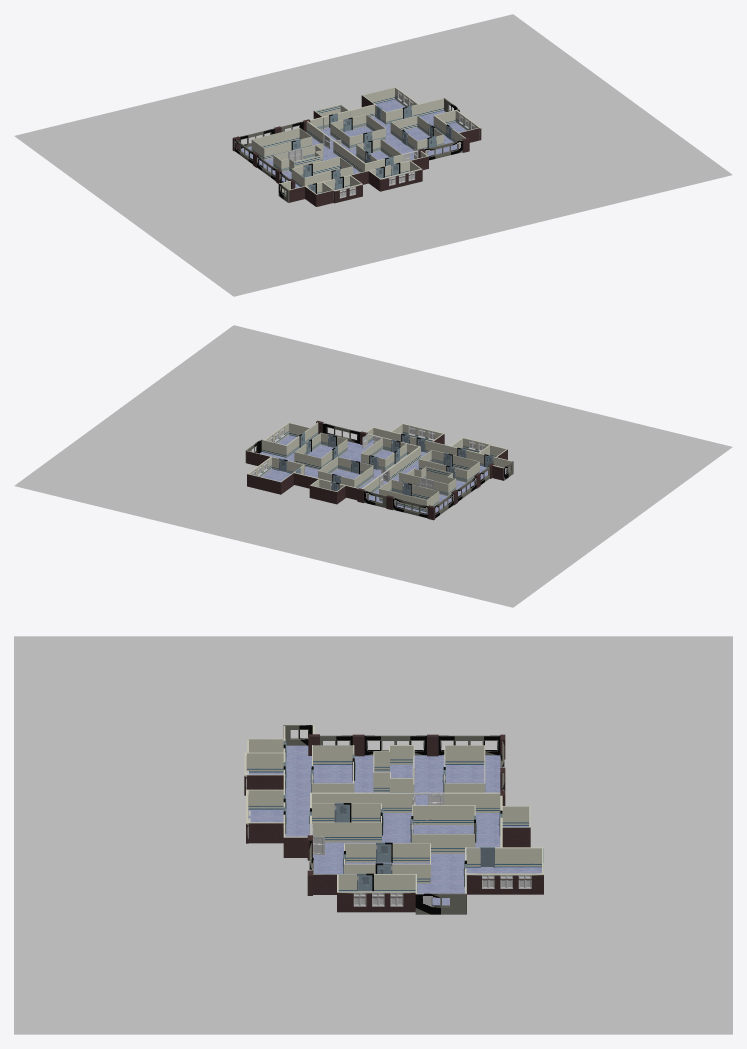
The model's file is LEVEL 1.fbx.
3 renders of one model, top to bottom at view 1: azimuth 30°, elevation 25°; view 2: azimuth 150°, elevation 25°; view 3: azimuth 270°, elevation 25°, orthographic. The views are drawn at different scales.
Visible parts, largest first — view 1: pPlane2, pCube108, pPlane1, polySurface308, polySurface276; view 2: pPlane2, pCube108, pPlane1, polySurface308; view 3: pPlane2, pCube108, pPlane1, polySurface308, polySurface281, polySurface282, polySurface287, polySurface266.
Boxes of the visible parts, left/top/right/bottom form: pPlane2: left=14, top=14, right=732, bottom=296; pCube108: left=251, top=87, right=479, bottom=206; pPlane1: left=241, top=99, right=466, bottom=188; polySurface308: left=291, top=105, right=452, bottom=193; polySurface276: left=379, top=168, right=422, bottom=191; pPlane2: left=14, top=325, right=732, bottom=607; pCube108: left=246, top=422, right=511, bottom=511; pPlane1: left=260, top=435, right=506, bottom=513; polySurface308: left=278, top=432, right=493, bottom=496; pPlane2: left=14, top=636, right=732, bottom=1034; pCube108: left=247, top=726, right=543, bottom=913; pPlane1: left=248, top=745, right=541, bottom=905; polySurface308: left=283, top=741, right=502, bottom=891; polySurface281: left=337, top=891, right=416, bottom=912; polySurface282: left=465, top=873, right=543, bottom=894; polySurface287: left=415, top=893, right=466, bottom=914; polySurface266: left=364, top=735, right=426, bottom=755.
Size of the model in its own units: 400 by 10.26 by 305.
